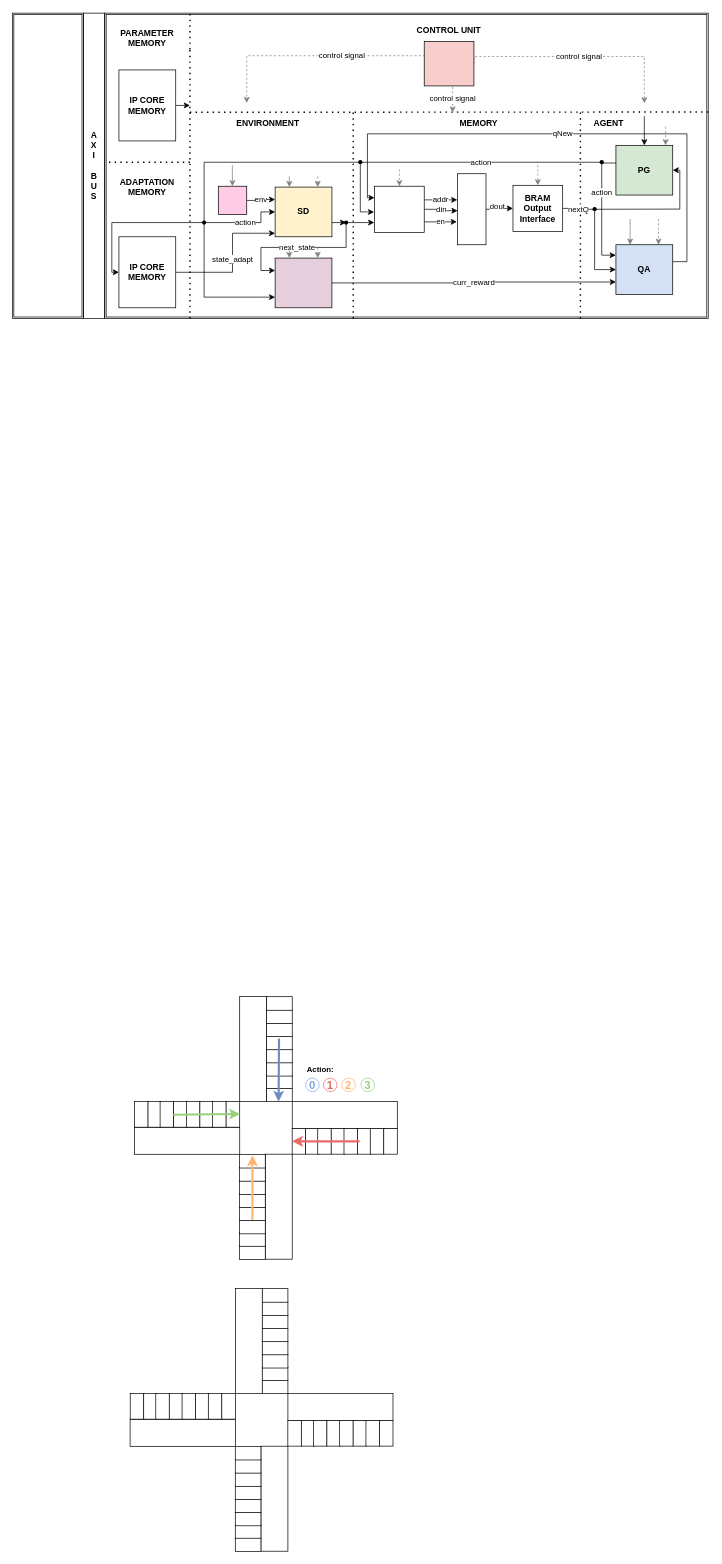
Image size: 722x1564. Some labels were removed from this diagram. The centre of each missing label's shape, as x and y in pixels:
"B R A M" belongs at pixel 471 209.
"BRAM Input Interface" belongs at pixel 399 209.
"CU" belongs at pixel 449 63.
"EG" belongs at pixel 232 200.
"PROCESSING SYSTEM" belongs at pixel 47 165.
"RD" belongs at pixel 303 282.
